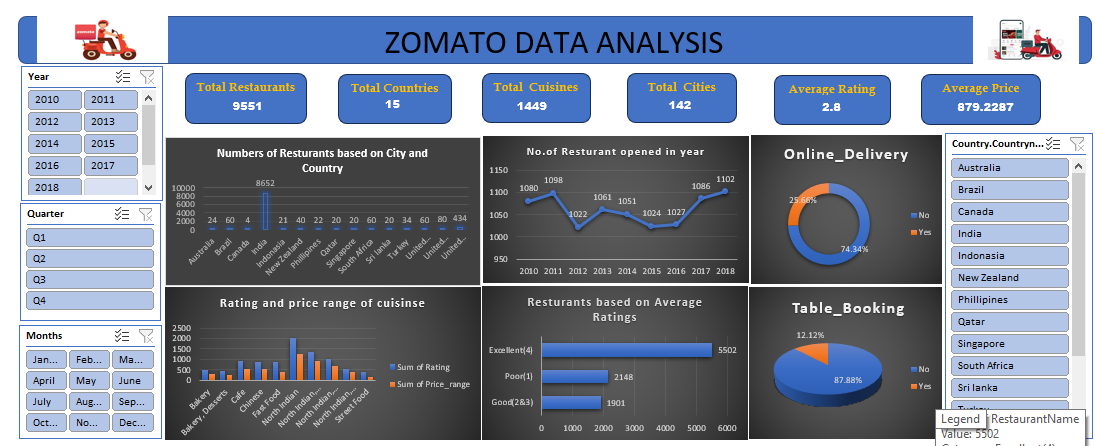

The page's visual inventory and layout, read from the dashboard file:
{"tool":"tableau","page":{"name":"Dashboard 1","canvas":[1000,1000],"units":"permille","ordinal":0},"visuals":[{"type":"text","box":[7.9,14.9,981.6,78.4]},{"type":"image","param":"Image/Zomato images.png","box":[108.9,14.9,107.1,74.6]},{"type":"image","param":"Image/Zomato im.jpg","box":[800.7,16.9,144,72.1]},{"type":"filter","title":"Average INR","param":"[federated.18wjlec0wt7tcm15e60zw1mw4sp7].[mn:Calculation_825847635026563073:ok]","box":[889.4,98.2,100.1,486.2]},{"type":"worksheet","title":"Restaurants count","mark":"Automatic","box":[8.8,98.9,136.1,113.8]},{"type":"worksheet","title":"Country","mark":"Automatic","box":[145.7,98.9,141.3,115.7]},{"type":"worksheet","title":"City","mark":"Automatic","box":[288,98.9,159.8,115.7]},{"type":"worksheet","title":"Average Rating","mark":"Automatic","box":[449.5,98.9,158.9,113.8]},{"type":"worksheet","title":"Average INR","mark":"Automatic","box":[609.3,98.9,160.7,111.9]},{"type":"filter","title":"Average INR","param":"[federated.18wjlec0wt7tcm15e60zw1mw4sp7].[none:Countryname:nk]","box":[770,98.9,118.5,111.9]},{"type":"image","param":"Image/cuisine im.jpg","box":[21.9,156.4,88.7,50.6]},{"type":"image","param":"Image/city map image.png","box":[290.6,156.4,59.7,50.6]},{"type":"image","param":"Image/inr logo.jpeg","box":[611.1,156.4,58.8,50.6]},{"type":"image","param":"Image/Rating im.jpg","box":[453,158,53.6,49.1]},{"type":"image","param":"Image/Country map logo.jpg","box":[149.2,162.6,50.9,41.4]},{"type":"worksheet","title":"Ques  7","mark":"Pie","box":[597,212.7,172.1,298.5]},{"type":"filter","title":"Average INR","param":"[federated.18wjlec0wt7tcm15e60zw1mw4sp7].[qr:Calculation_825847635026563073:ok]","box":[770,214.6,117.7,238.8]},{"type":"worksheet","title":"9.3 ratings","mark":"Automatic","rows":["Cuisines"],"cols":["Rating"],"box":[8.8,216.3,200.2,470.9]},{"type":"worksheet","title":"Country map","mark":"Multipolygon","box":[210.7,216.3,385.4,455.5]},{"type":"filter","title":"Average INR","param":"[federated.18wjlec0wt7tcm15e60zw1mw4sp7].[yr:Calculation_825847635026563073:ok]","box":[771.7,455.2,115.9,130.6]},{"type":"worksheet","title":"Ques 5","mark":"Automatic","rows":["RestaurantName"],"cols":["Rating (bin)"],"box":[597,513.8,173.8,472.4]},{"type":"worksheet","title":"Ques 4.2","mark":"Circle","box":[771.7,584.4,218.6,400.3]},{"type":"worksheet","title":"Ques 4.1","mark":"Area","rows":["RestaurantName"],"cols":["Calculation_825847635026563073"],"box":[210.7,674.9,387.2,311.4]},{"type":"worksheet","title":"Ques 8","mark":"Pie","box":[7.9,690.2,201.1,294.5]}]}

Visuals, with their boxes on the dashboard's canvas, which has no fixed pixel size, in thousandths of its width and height (x1, y1, x2, y2). These are canvas units, not pixel positions in the 1095x446 screenshot, which may show the page scaled, cropped or inside an application window:
text: (x1=8, y1=15, x2=990, y2=93)
image: (x1=109, y1=15, x2=216, y2=90)
image: (x1=801, y1=17, x2=945, y2=89)
"Average INR" filter: (x1=889, y1=98, x2=990, y2=584)
"Restaurants count" worksheet: (x1=9, y1=99, x2=145, y2=213)
"Country" worksheet: (x1=146, y1=99, x2=287, y2=215)
"City" worksheet: (x1=288, y1=99, x2=448, y2=215)
"Average Rating" worksheet: (x1=450, y1=99, x2=608, y2=213)
"Average INR" worksheet: (x1=609, y1=99, x2=770, y2=211)
"Average INR" filter: (x1=770, y1=99, x2=888, y2=211)
image: (x1=22, y1=156, x2=111, y2=207)
image: (x1=291, y1=156, x2=350, y2=207)
image: (x1=611, y1=156, x2=670, y2=207)
image: (x1=453, y1=158, x2=507, y2=207)
image: (x1=149, y1=163, x2=200, y2=204)
"Ques  7" worksheet (Pie marks): (x1=597, y1=213, x2=769, y2=511)
"Average INR" filter: (x1=770, y1=215, x2=888, y2=453)
"9.3 ratings" worksheet: (x1=9, y1=216, x2=209, y2=687)
"Country map" worksheet (Multipolygon marks): (x1=211, y1=216, x2=596, y2=672)
"Average INR" filter: (x1=772, y1=455, x2=888, y2=586)
"Ques 5" worksheet: (x1=597, y1=514, x2=771, y2=986)
"Ques 4.2" worksheet (Circle marks): (x1=772, y1=584, x2=990, y2=985)
"Ques 4.1" worksheet (Area marks): (x1=211, y1=675, x2=598, y2=986)
"Ques 8" worksheet (Pie marks): (x1=8, y1=690, x2=209, y2=985)
